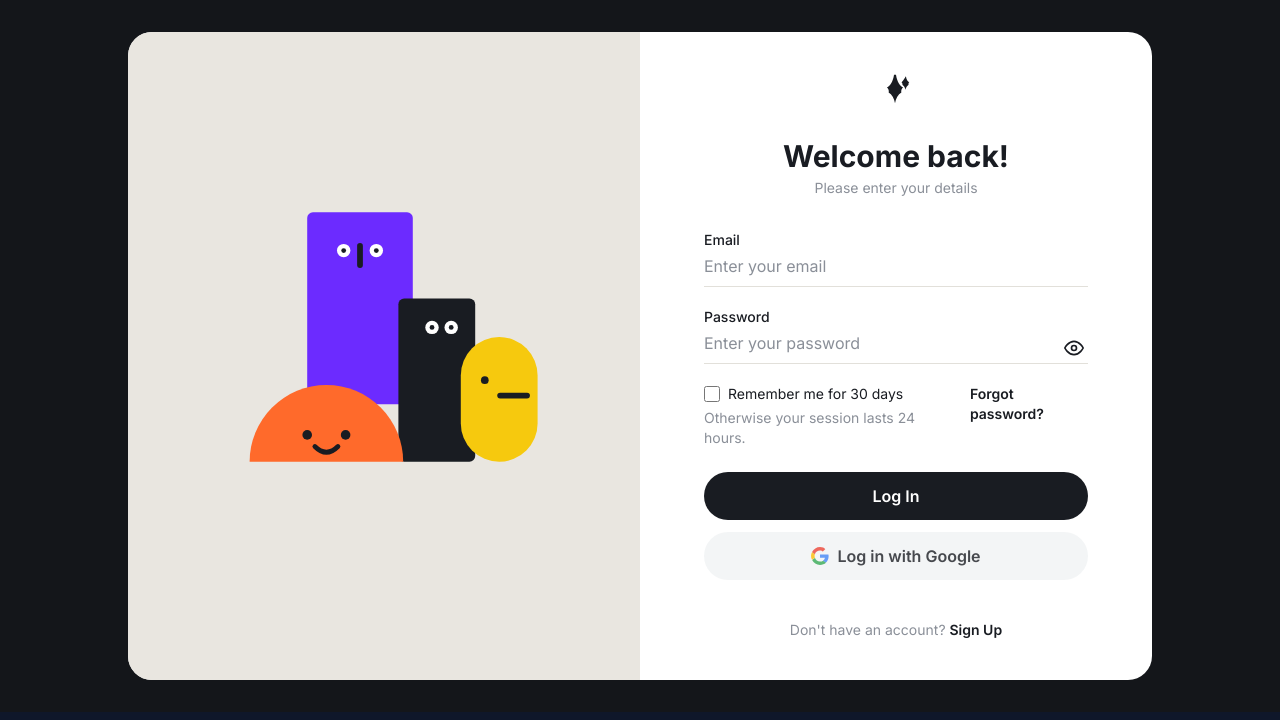
Scenario: LoginPage submission › re-enables the submit button after a failed attempt
The image size is (1280, 720).
Step 1. Type "nope" into the field labelled "Email" → [896, 270], box top-left (704, 254), bottom-right (1088, 287)
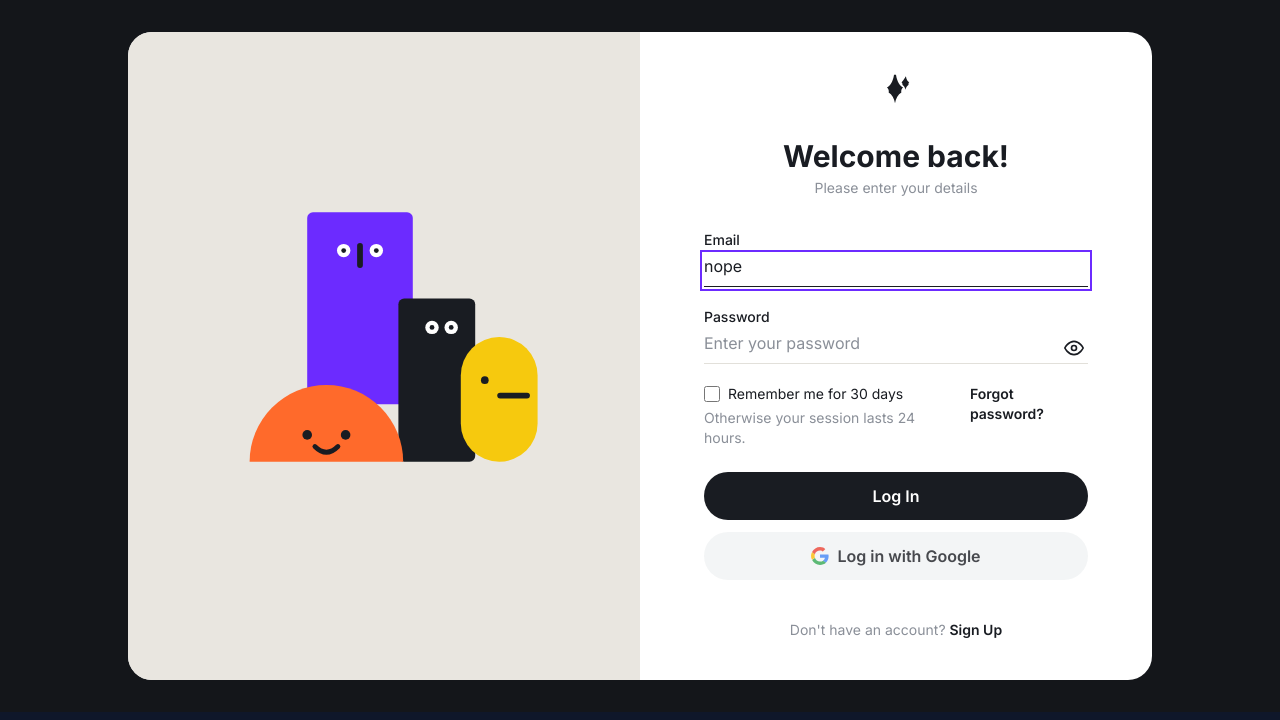
Step 2. Type "Secret123" into the password field labelled "Password" → [896, 348], box top-left (704, 331), bottom-right (1088, 364)
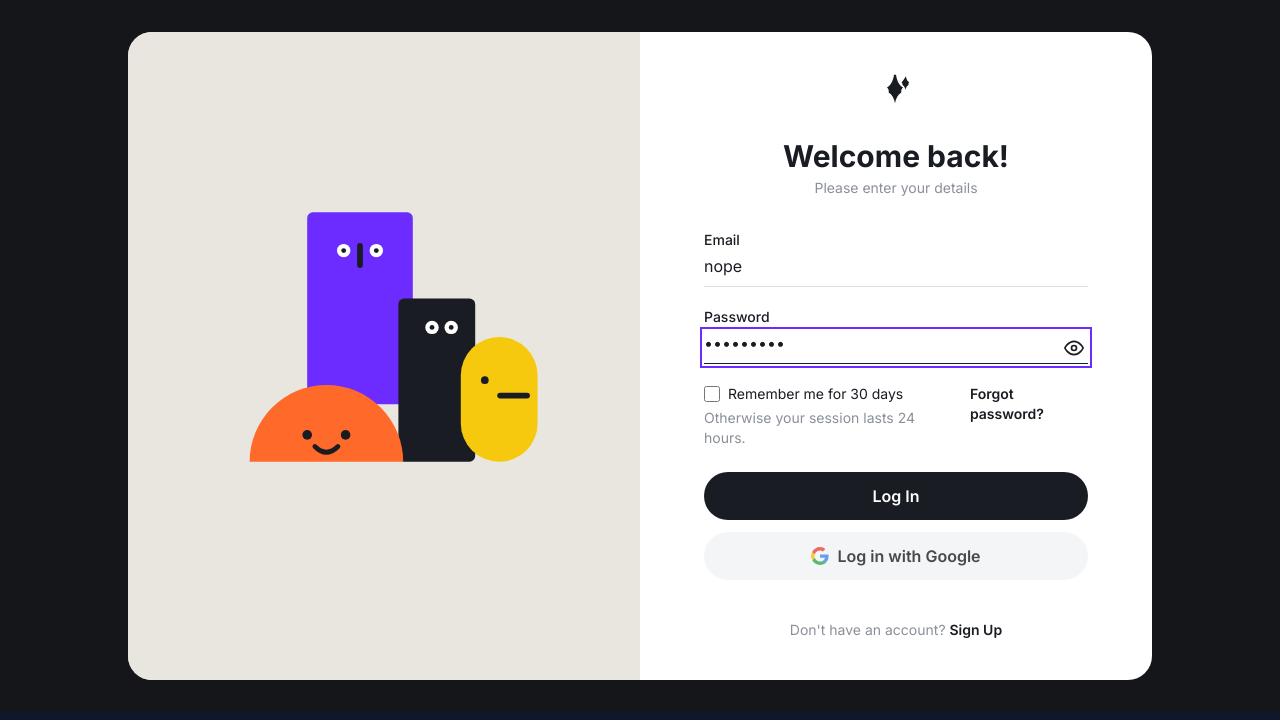
Step 3. Click the button "Log In" → [896, 496], box top-left (704, 472), bottom-right (1088, 520)
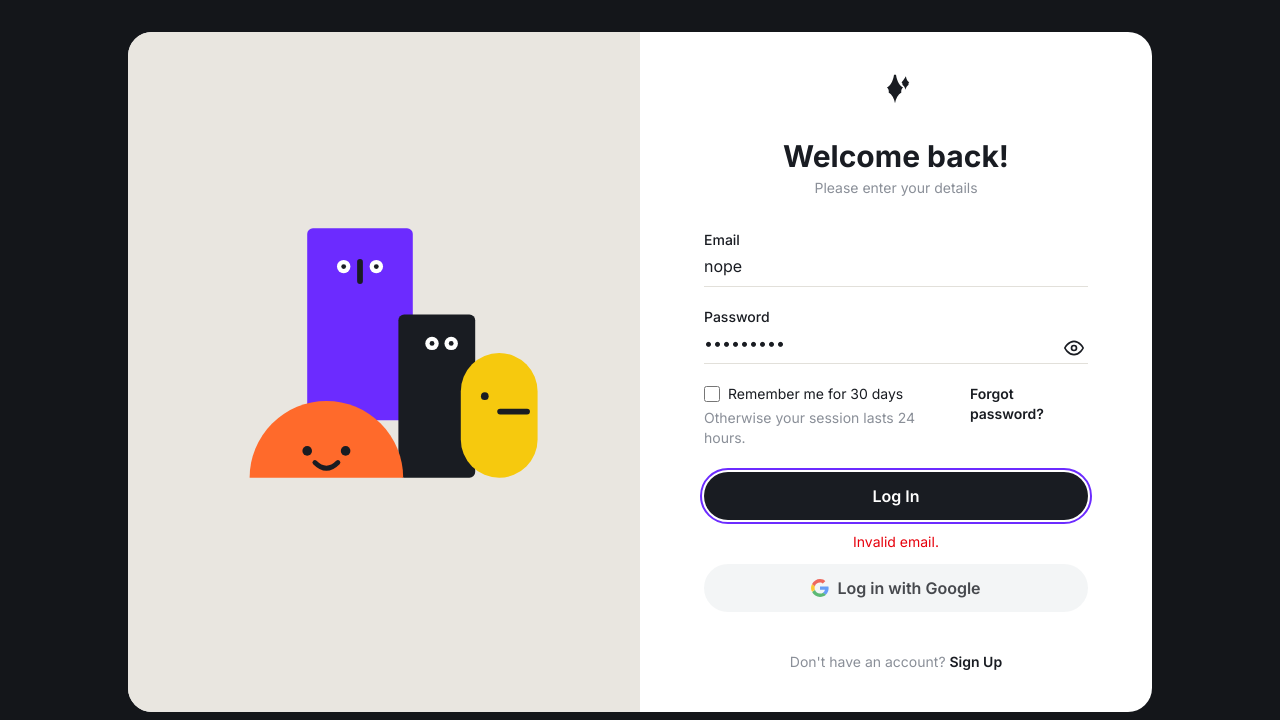
Result: the text "Invalid email." is shown at top-left (853, 533), bottom-right (939, 550)
